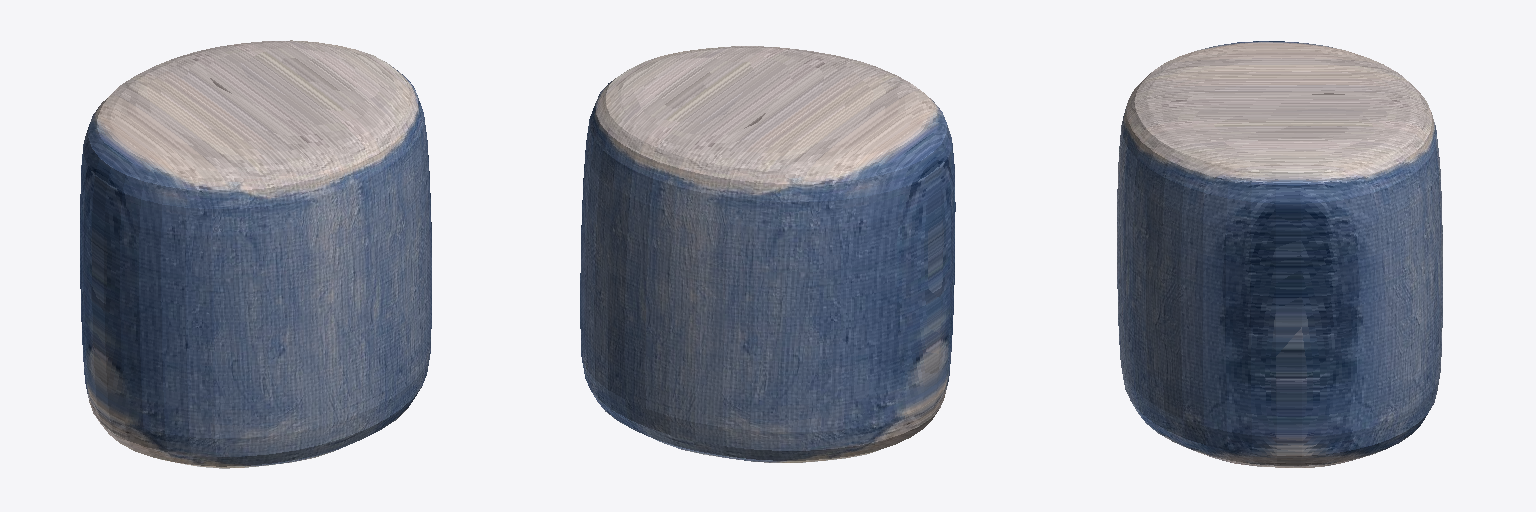
3 views of the same model, side by side, from view 1: azimuth 30°, elevation 25°; view 2: azimuth 150°, elevation 25°; view 3: azimuth 270°, elevation 25° (orthographic).
Visible parts, largest first — view 1: 000_Cylinder_-_baked; view 2: 000_Cylinder_-_baked; view 3: 000_Cylinder_-_baked.
Boxes of the visible parts, x1,y1,x2,y2 form: 000_Cylinder_-_baked: [80, 40, 431, 468]; 000_Cylinder_-_baked: [580, 46, 955, 462]; 000_Cylinder_-_baked: [1117, 41, 1442, 467].
Size of the model in its own units: 234 by 217 by 203.
Materials: 1 (1 with a texture image).